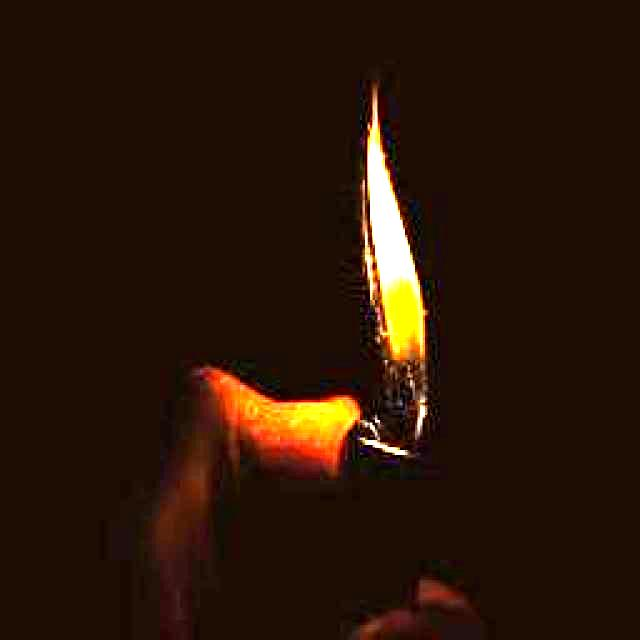fire: (362, 93, 426, 451)
